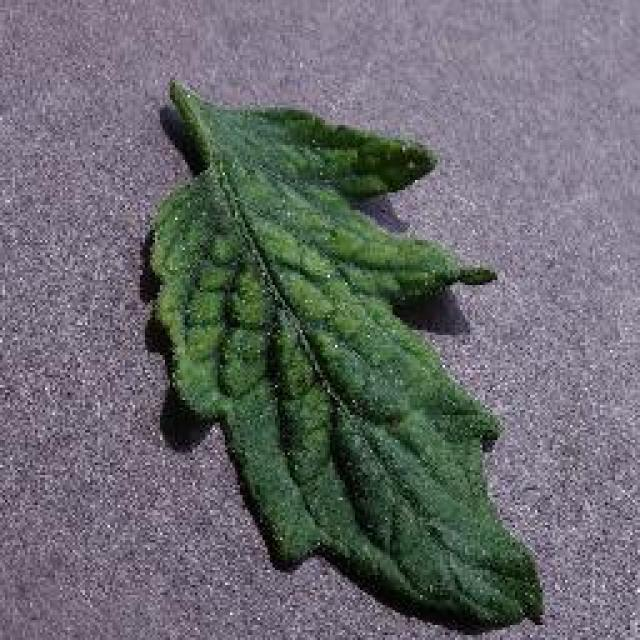Tomato___Tomato_mosaic_virus: (155, 80, 540, 625)
